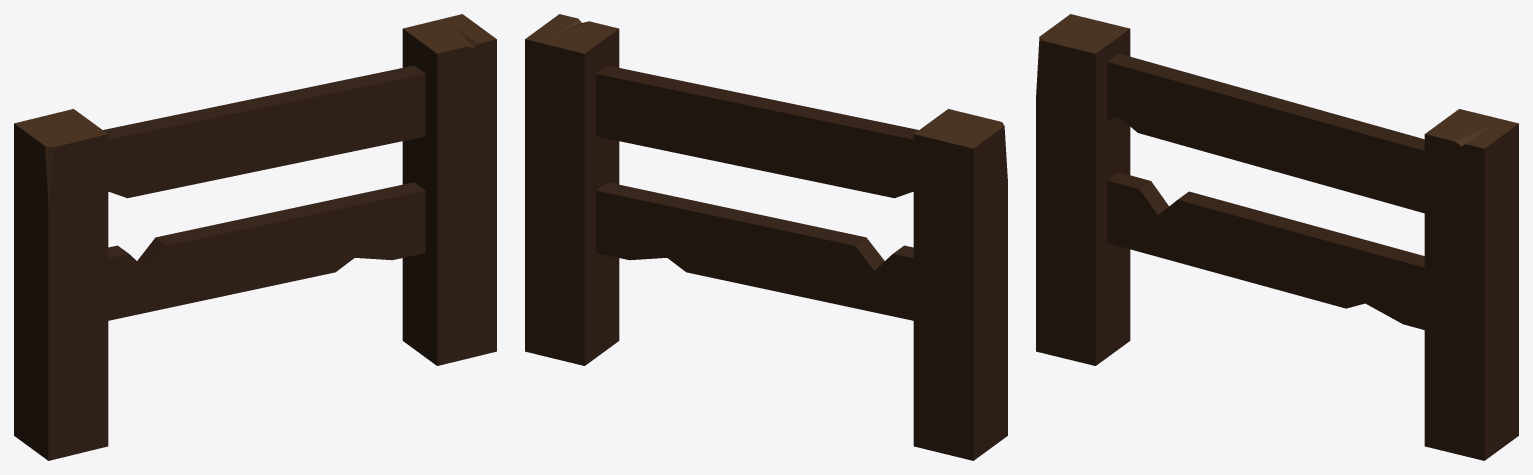
The model's file is Cave_Lair_Wooden_Timber_Fence_Small_04.fbx.
The picture shows the model from 3 angles, left to right: view 1: azimuth 30°, elevation 25°; view 2: azimuth 150°, elevation 25°; view 3: azimuth 330°, elevation 25°; orthographic projection.
Visible parts, largest first — view 1: Cave_Lair_Wooden_Timber_Fence_Small_04; view 2: Cave_Lair_Wooden_Timber_Fence_Small_04; view 3: Cave_Lair_Wooden_Timber_Fence_Small_04.
Part boxes in pixels (x1=…): Cave_Lair_Wooden_Timber_Fence_Small_04: x1=14, y1=14, x2=496, y2=460; Cave_Lair_Wooden_Timber_Fence_Small_04: x1=525, y1=14, x2=1007, y2=460; Cave_Lair_Wooden_Timber_Fence_Small_04: x1=1036, y1=14, x2=1518, y2=460.
Bounding box in the file's own units: 1.69 × 1.12 × 0.225.
